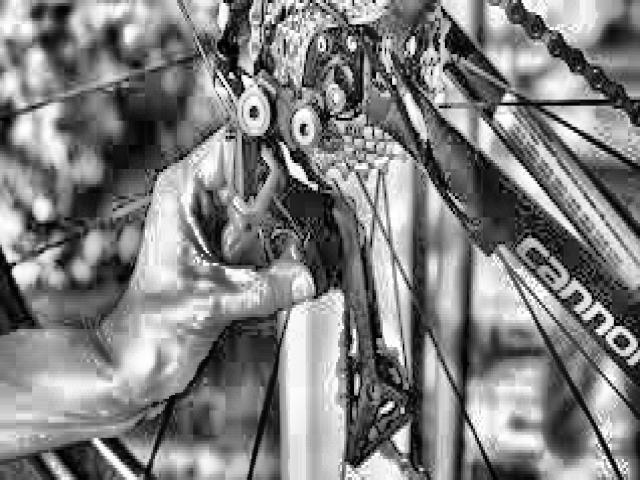rear_derailleur: (200, 42, 422, 473)
